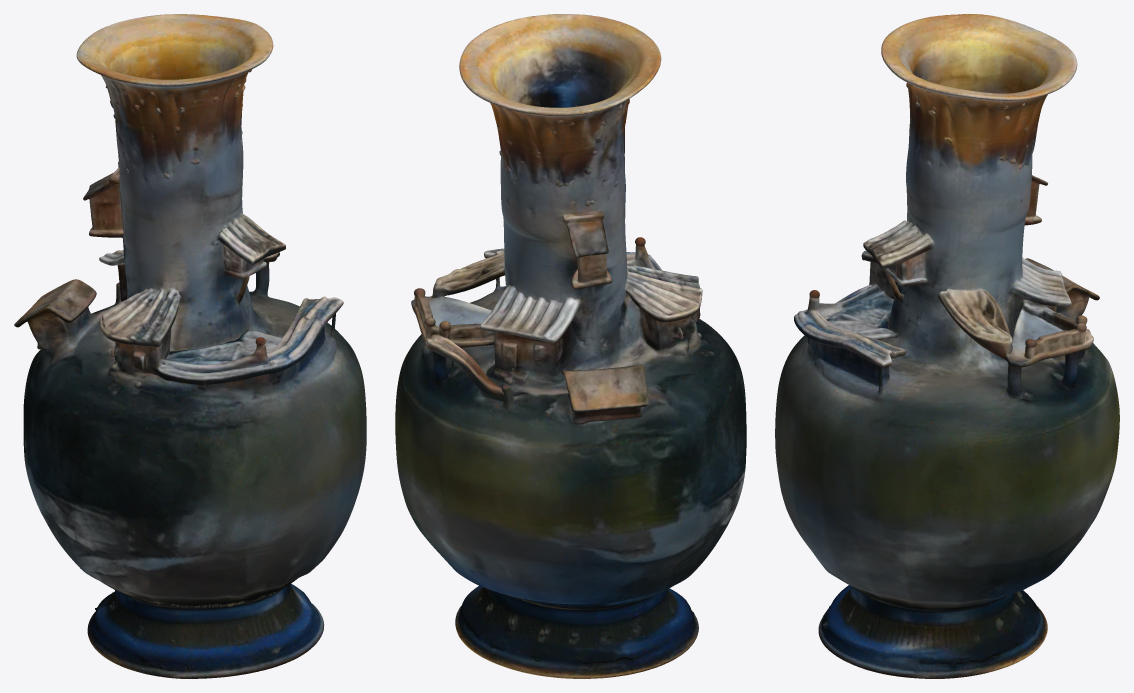
The model's file is candidate_geom_preserved_1k.glb.
The picture shows the model from 3 angles, left to right: view 1: azimuth 30°, elevation 25°; view 2: azimuth 150°, elevation 25°; view 3: azimuth 270°, elevation 25°; orthographic projection. The views are drawn at different scales.
Visible parts, largest first — view 1: world; view 2: world; view 3: world.
Boxes of the visible parts, x1=… form: world: x1=14, y1=14, x2=366, y2=678; world: x1=395, y1=14, x2=746, y2=678; world: x1=775, y1=14, x2=1119, y2=678.
Size of the model in its own units: 0.4752 by 0.8833 by 0.4739.
Materials: 1 (1 with a texture image).
